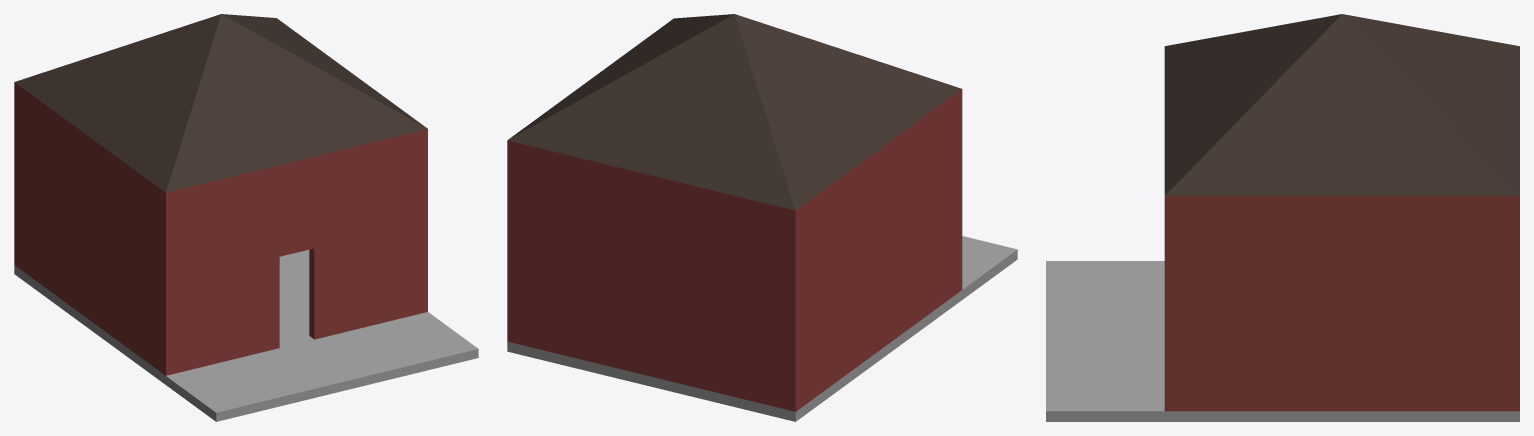
File: house.fbx
The picture shows the model from 3 angles, left to right: view 1: azimuth 30°, elevation 25°; view 2: azimuth 150°, elevation 25°; view 3: azimuth 270°, elevation 25°; orthographic projection. The views are drawn at different scales.
Visible parts, largest first — view 1: Cube; view 2: Cube; view 3: Cube.
Boxes of the visible parts, bbox=[...] form: Cube: bbox=[14, 14, 478, 421]; Cube: bbox=[507, 14, 1017, 421]; Cube: bbox=[1046, 14, 1519, 421].
Bounding box in the file's own units: 300 × 310 × 400.
